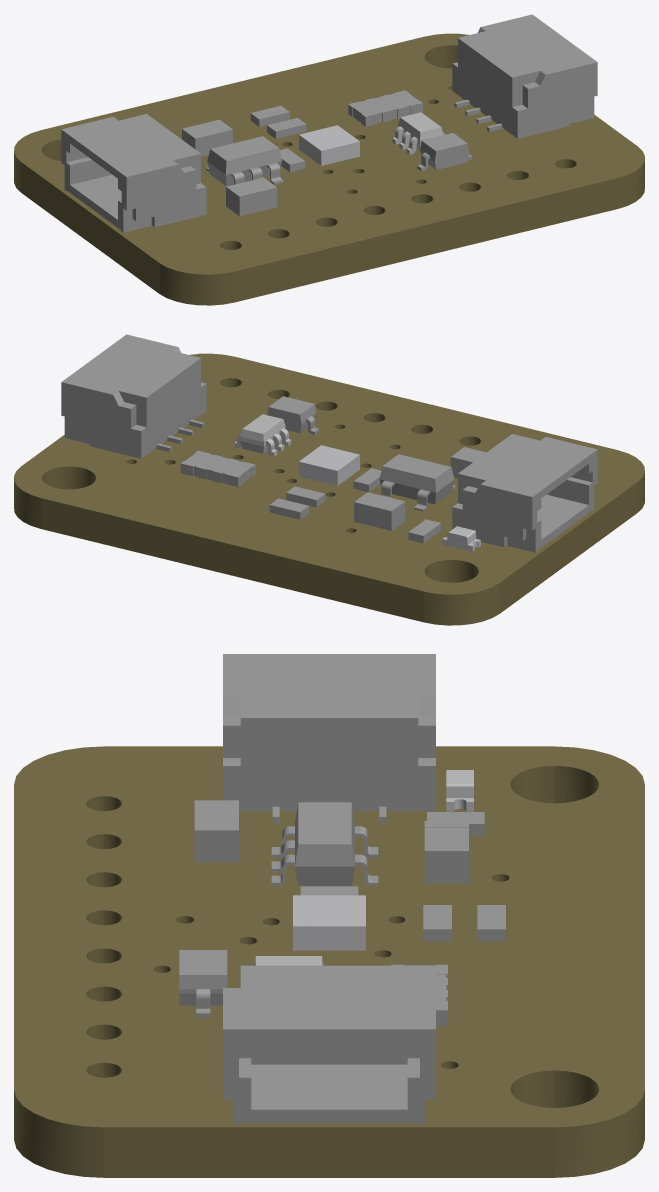
The model's file is ada-4816.glb.
3 renders of one model, top to bottom at view 1: azimuth 30°, elevation 25°; view 2: azimuth 150°, elevation 25°; view 3: azimuth 270°, elevation 25°, orthographic. The views are drawn at different scales.
Parts seen in each view (by area): view 1: 0.16666666666666666_0.16666666666666666_0.08333333333333333_, 0.3333333333333333_0.3333333333333333_0.3333333333333333_0, 0.5833333333333334_0.5833333333333334_0.5833333333333334_0.8, 0.5_0.5_0.5_0.85; view 2: 0.16666666666666666_0.16666666666666666_0.08333333333333333_, 0.3333333333333333_0.3333333333333333_0.3333333333333333_0, 0.5833333333333334_0.5833333333333334_0.5833333333333334_0.8, 0.5_0.5_0.5_0.85; view 3: 0.16666666666666666_0.16666666666666666_0.08333333333333333_, 0.3333333333333333_0.3333333333333333_0.3333333333333333_0, 0.5833333333333334_0.5833333333333334_0.5833333333333334_0.8.
Part boxes in pixels (bbox=[...]): 0.16666666666666666_0.16666666666666666_0.08333333333333333_: bbox=[14, 33, 644, 305]; 0.3333333333333333_0.3333333333333333_0.3333333333333333_0: bbox=[61, 14, 597, 232]; 0.5833333333333334_0.5833333333333334_0.5833333333333334_0.8: bbox=[299, 125, 359, 165]; 0.5_0.5_0.5_0.85: bbox=[392, 112, 445, 154]; 0.16666666666666666_0.16666666666666666_0.08333333333333333_: bbox=[14, 353, 644, 625]; 0.3333333333333333_0.3333333333333333_0.3333333333333333_0: bbox=[61, 334, 597, 552]; 0.5833333333333334_0.5833333333333334_0.5833333333333334_0.8: bbox=[299, 445, 480, 551]; 0.5_0.5_0.5_0.85: bbox=[234, 414, 291, 456]; 0.16666666666666666_0.16666666666666666_0.08333333333333333_: bbox=[14, 746, 644, 1177]; 0.3333333333333333_0.3333333333333333_0.3333333333333333_0: bbox=[179, 654, 505, 1124]; 0.5833333333333334_0.5833333333333334_0.5833333333333334_0.8: bbox=[293, 770, 473, 950].
Size of the model in its own units: 2.54 by 0.4529 by 1.78.
